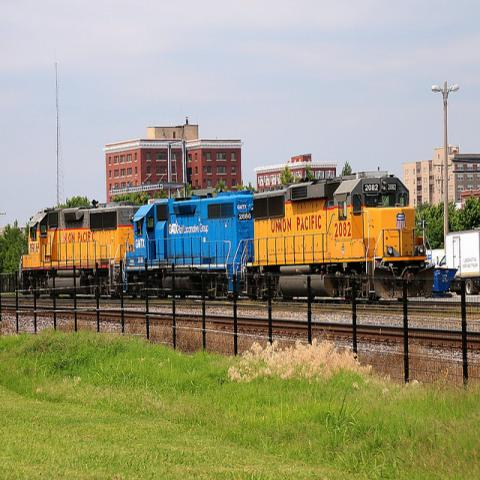truck: (436, 230, 480, 296)
